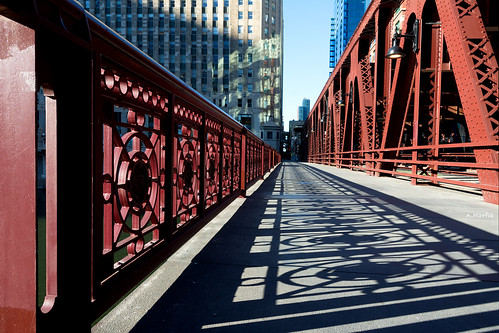building: (47, 1, 283, 130), (335, 1, 378, 62)
sky: (283, 1, 330, 90)
